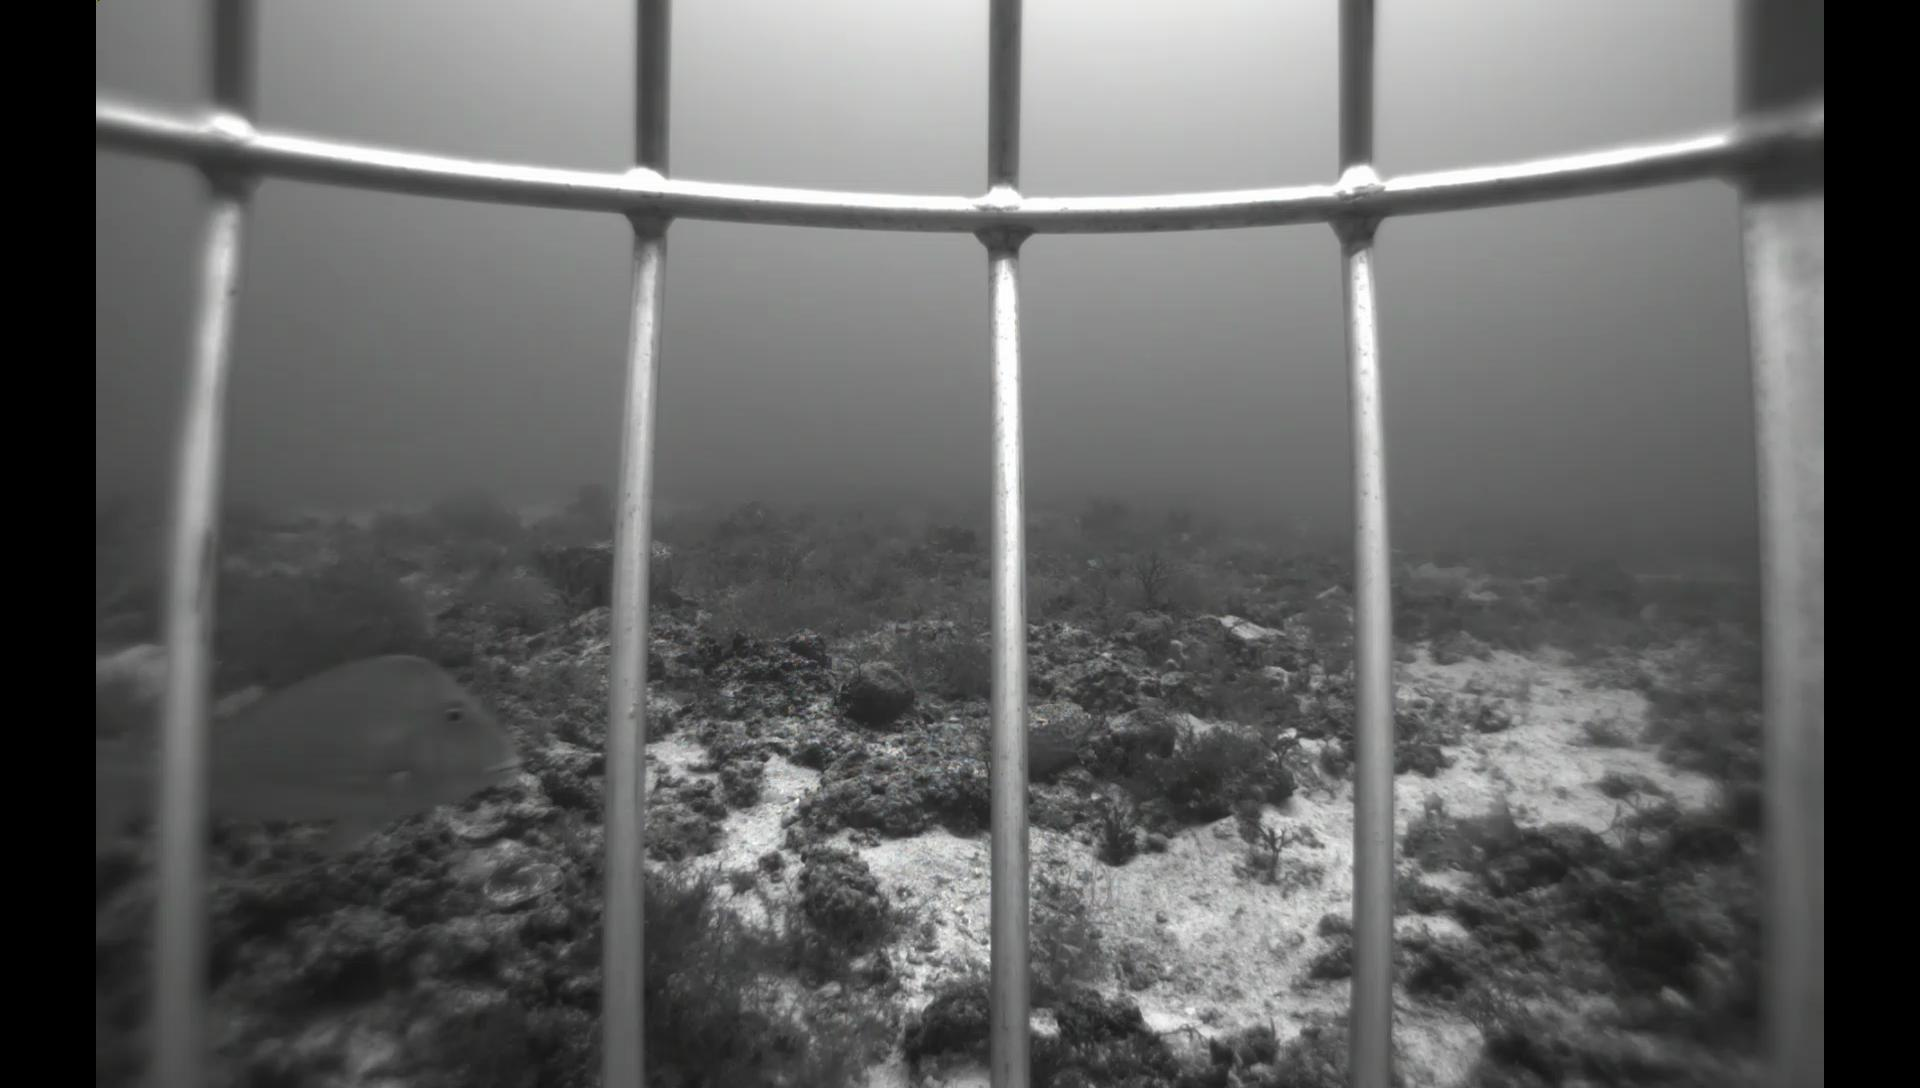CALAMUSNODOSUS-170210608: (94, 638, 534, 864)
HOLACANTHUSBERMUDENSIS-170290102: (98, 520, 231, 615)
MYCTEROPERCAPHENAX-170022105: (851, 509, 893, 554)
